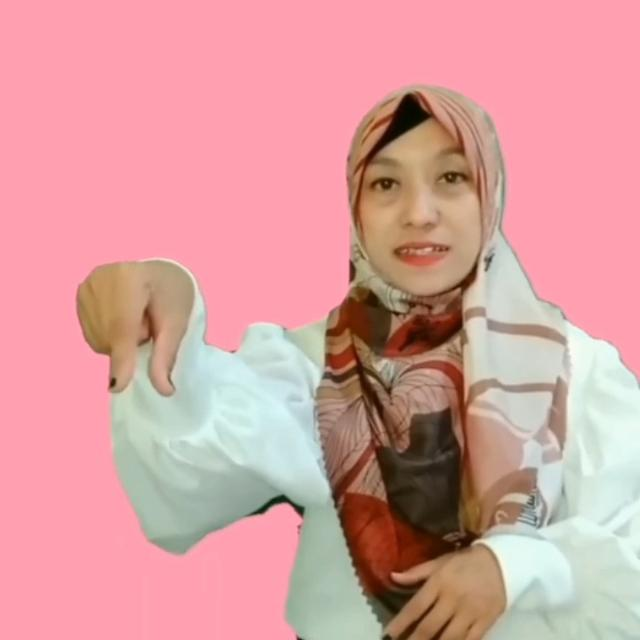Q: (68, 250, 190, 412)
